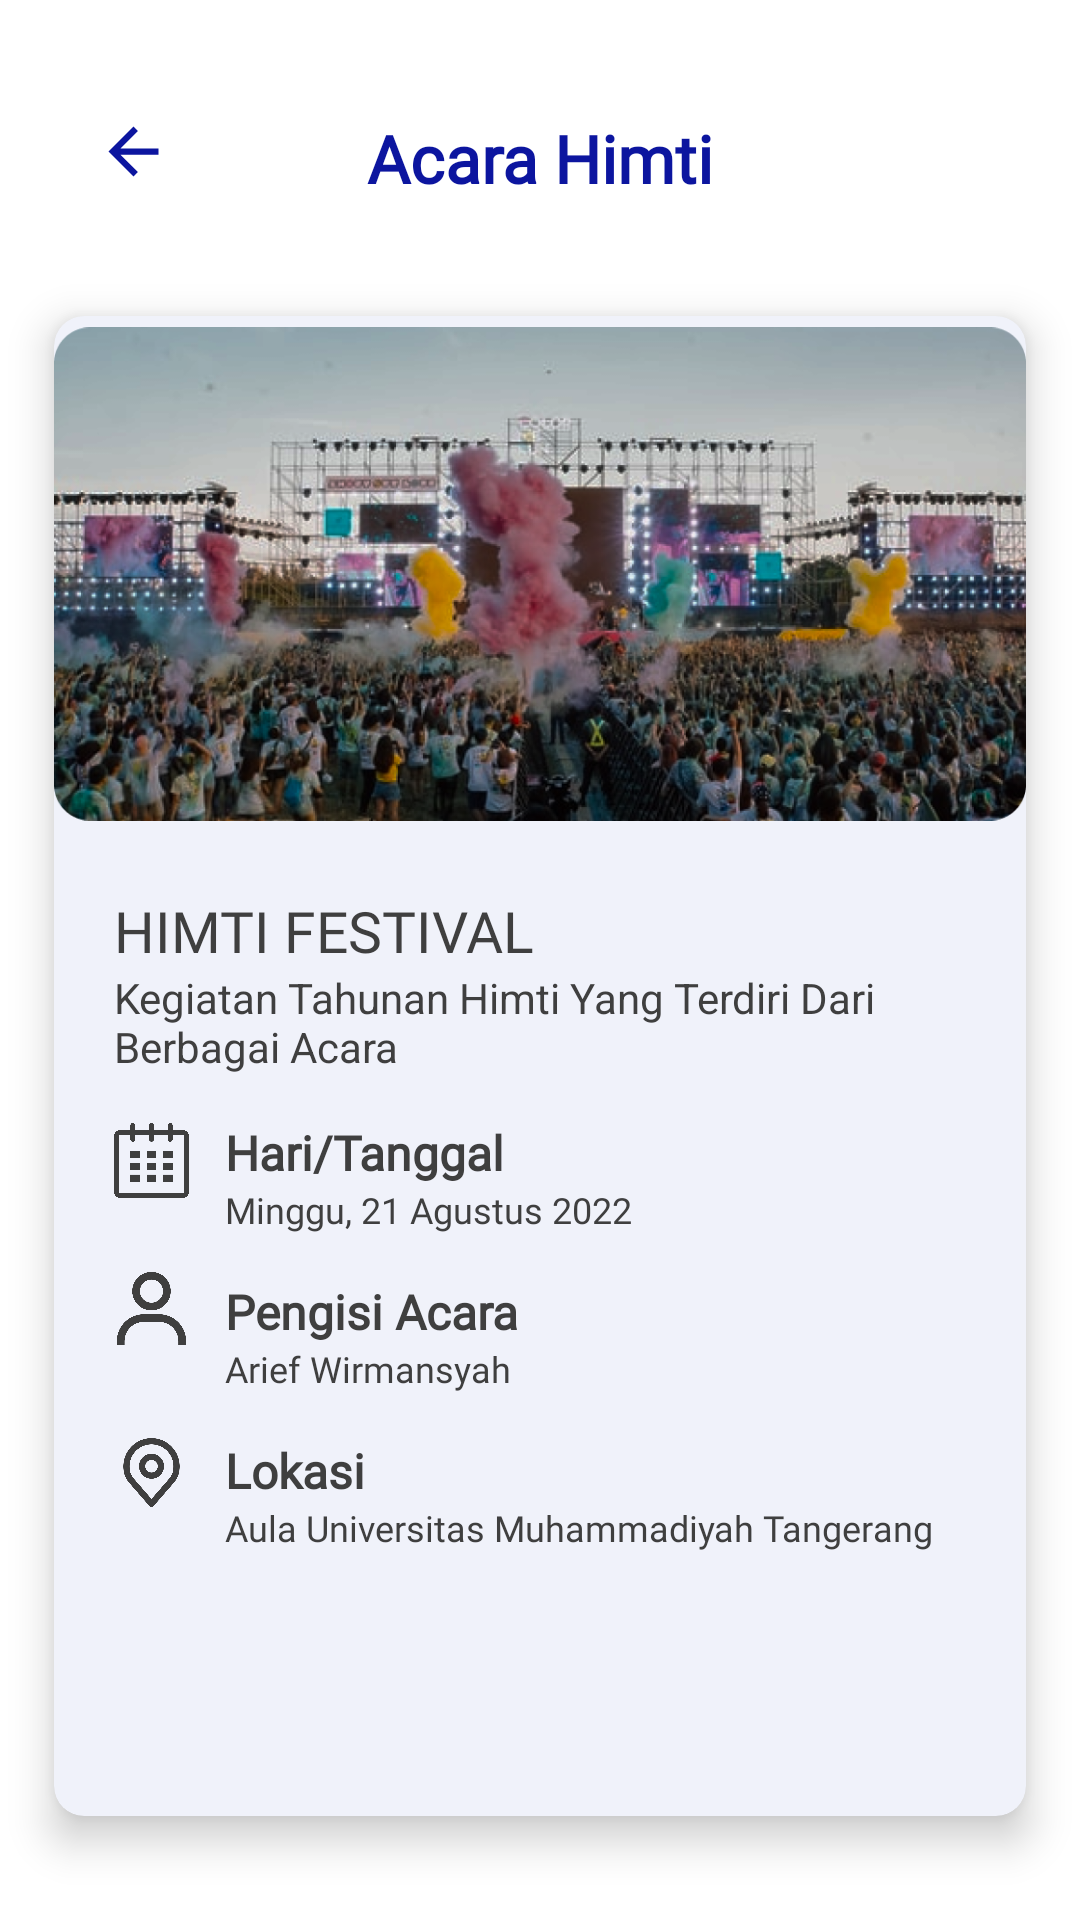

Point at icon controls on the screen. Image size 1080×1920, points as (x,y).
arrow backblue: (133,151)
date: (151,1160)
